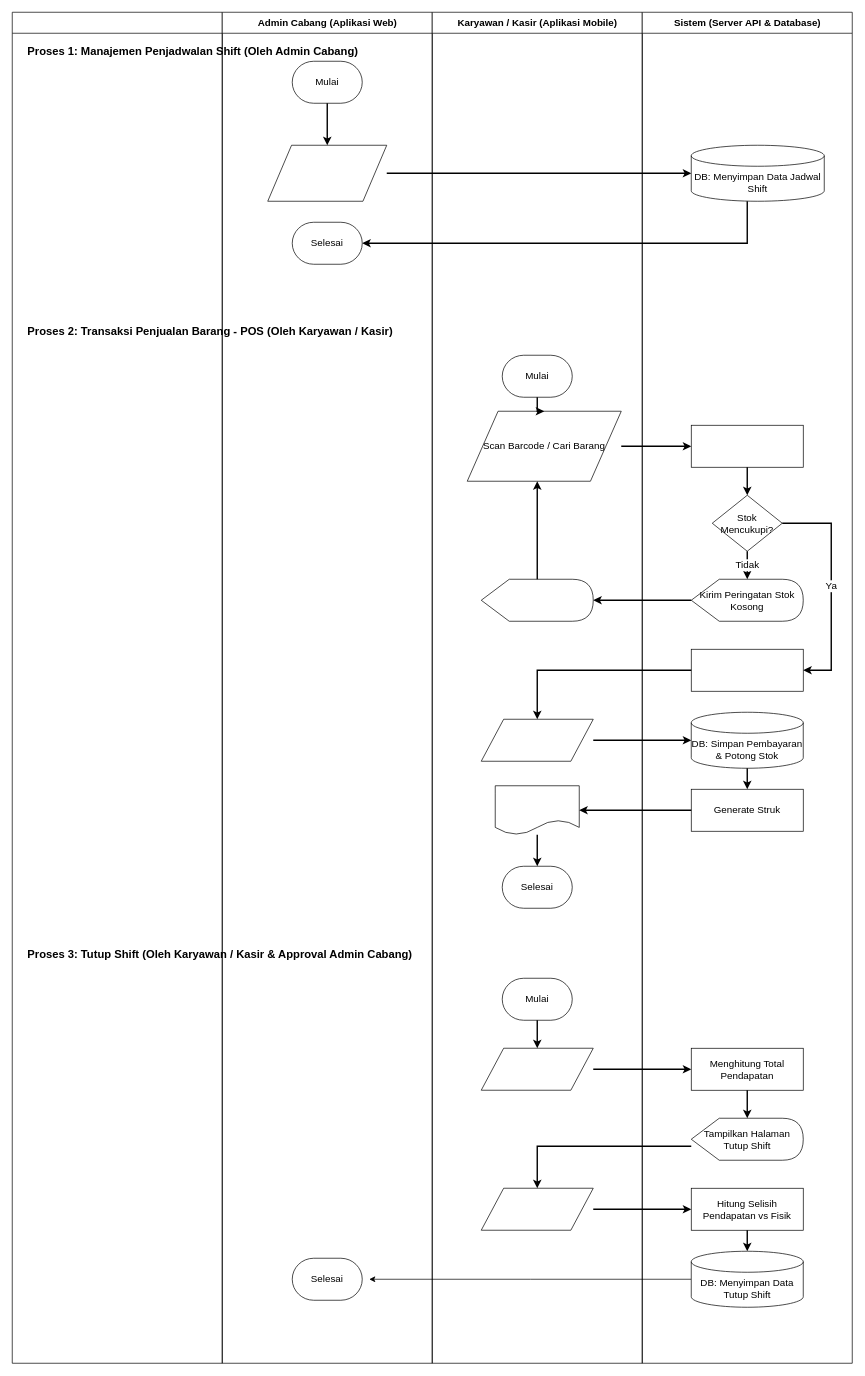
Some shapes in this 865 by 1376 pixel diagram are drawn without their labels. The centre of each missing label's shape, as x and y in pixels:
"Cetak Struk Transaksi" belongs at (537,810).
"Input Jadwal Shift (Karyawan & Waktu)" belongs at (327,173).
"Input Pembayaran" belongs at (537,740).
"Mengecek Ketersediaan Stok" belongs at (747,446).
"Menghitung Uang & Input Setoran" belongs at (537,1209).
"Notifikasi Stok Menipis" belongs at (537,600).
"Pilih Menu Tutup Shift" belongs at (537,1069).
"Super Admin (Aplikasi Web)" belongs at (117,687).
"Tambahkan ke Keranjang Kasir" belongs at (747,670).
